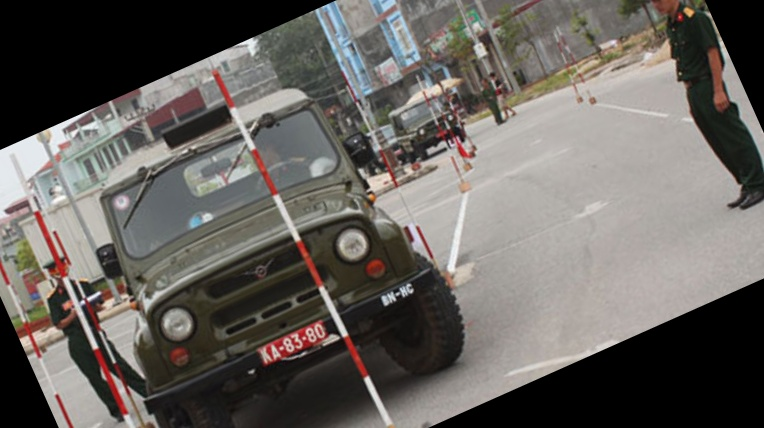plate: (259, 321, 324, 370)
